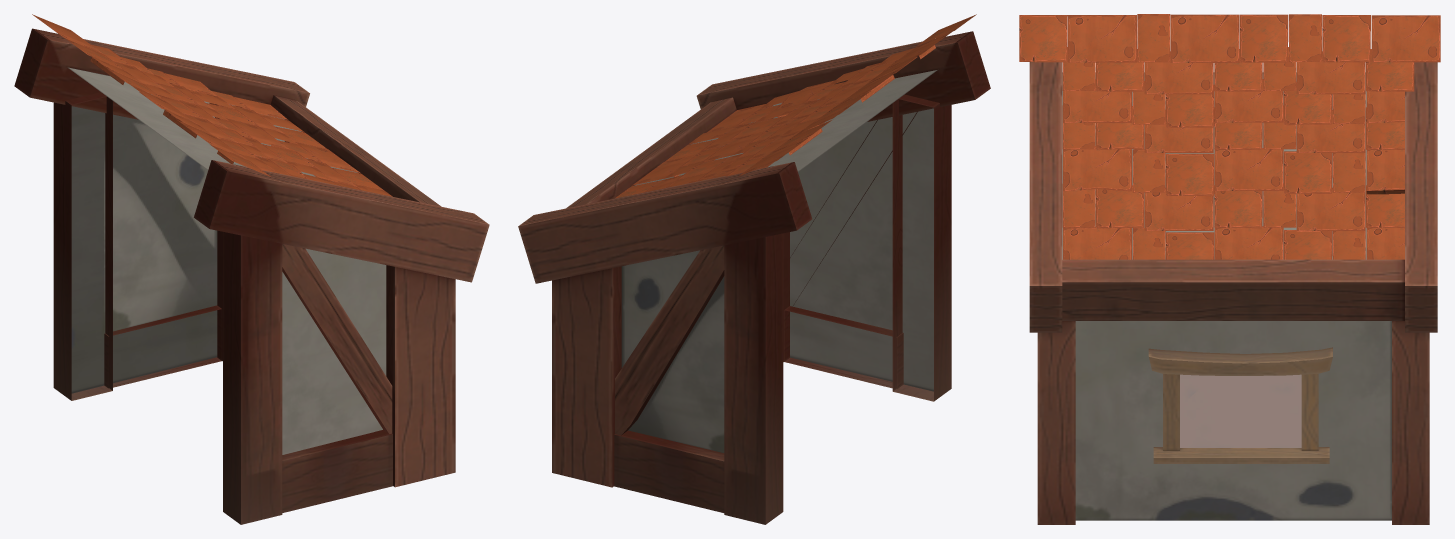
File: SM_Shack_01.fbx
The picture shows the model from 3 angles, left to right: view 1: azimuth 30°, elevation 25°; view 2: azimuth 150°, elevation 25°; view 3: azimuth 270°, elevation 25°; orthographic projection. The views are drawn at different scales.
Visible parts, largest first — view 1: SM_Shack_01; view 2: SM_Shack_01; view 3: SM_Shack_01, SM_Window_01.
Part boxes in pixels (x1,y1,x2,y2): SM_Shack_01: (14, 14, 489, 524); SM_Shack_01: (518, 14, 990, 524); SM_Shack_01: (1019, 14, 1440, 524); SM_Window_01: (1148, 347, 1332, 463).
Bounding box in the file's own units: 4.34 × 5.56 × 5.4.
